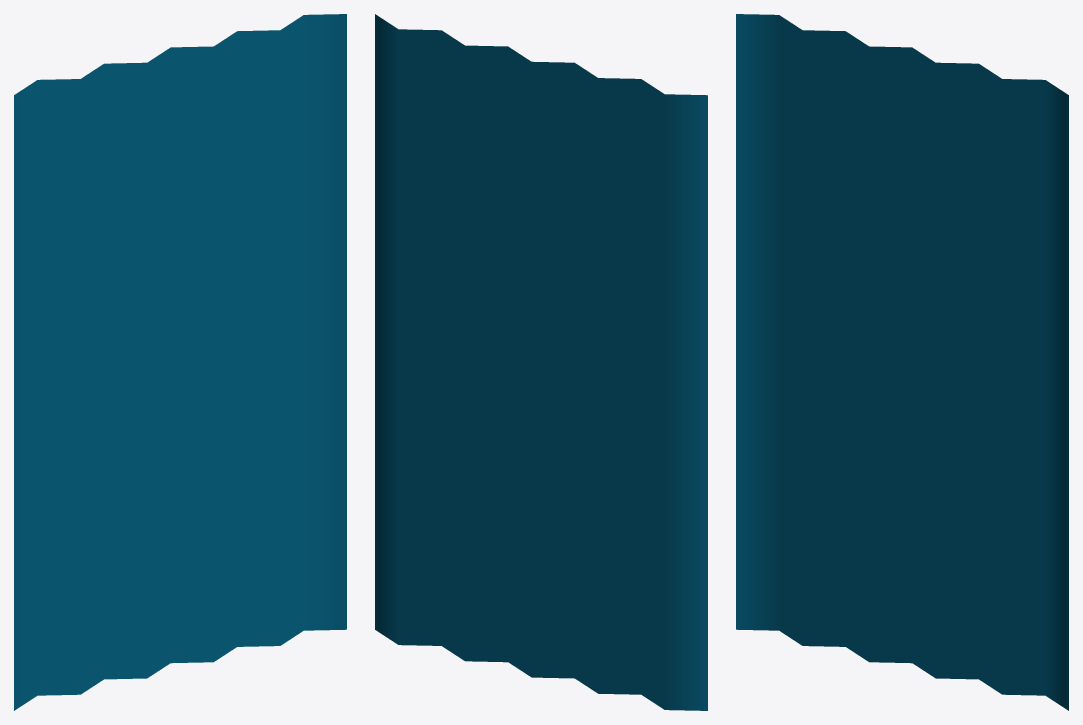
The model's file is patra.fbx.
The picture shows the model from 3 angles, left to right: view 1: azimuth 30°, elevation 25°; view 2: azimuth 150°, elevation 25°; view 3: azimuth 330°, elevation 25°; orthographic projection.
Visible parts, largest first — view 1: pPlane1; view 2: pPlane1; view 3: pPlane1.
Part boxes in pixels (x1,y1,x2,y2): pPlane1: (14,14,346,710); pPlane1: (375,14,707,710); pPlane1: (736,14,1068,710).
Bounding box in the file's own units: 7.91 × 13.98 × 0.4041.
